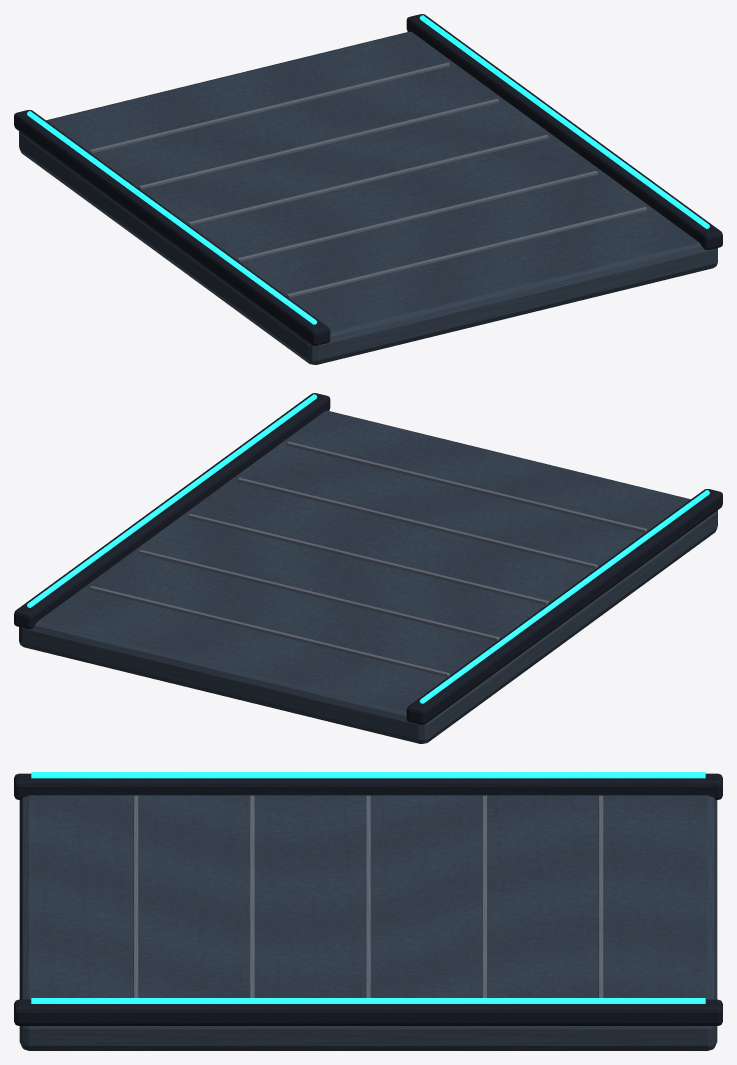
The model's file is RouteBridge.fbx.
3 views of the same model, one above another, from view 1: azimuth 30°, elevation 25°; view 2: azimuth 150°, elevation 25°; view 3: azimuth 270°, elevation 25° (orthographic). The views are drawn at different scales.
Visible parts, largest first — view 1: SM_RouteBridge; view 2: SM_RouteBridge; view 3: SM_RouteBridge.
Boxes of the visible parts, box(x1,y1,x2,y2) form: SM_RouteBridge: box(14, 14, 722, 364); SM_RouteBridge: box(14, 393, 722, 743); SM_RouteBridge: box(14, 772, 722, 1050).
Bounding box in the file's own units: 482 × 610 × 48.42.
Materials: 1 (1 with a texture image).
